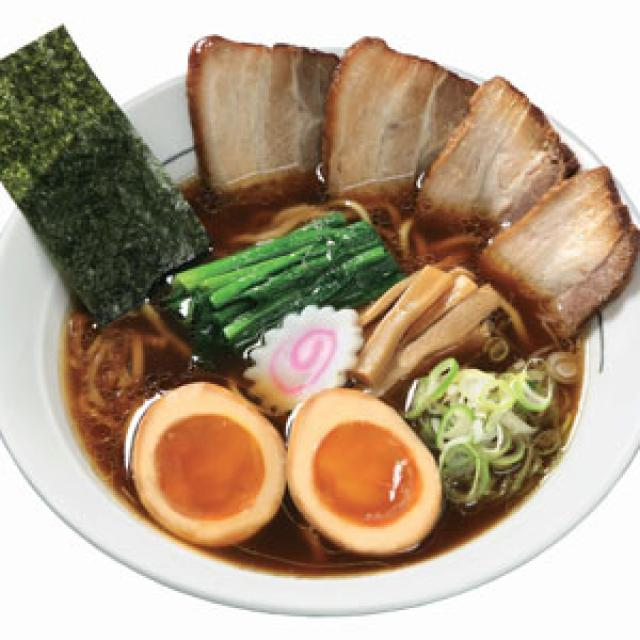面条主食: (0, 15, 640, 627)
